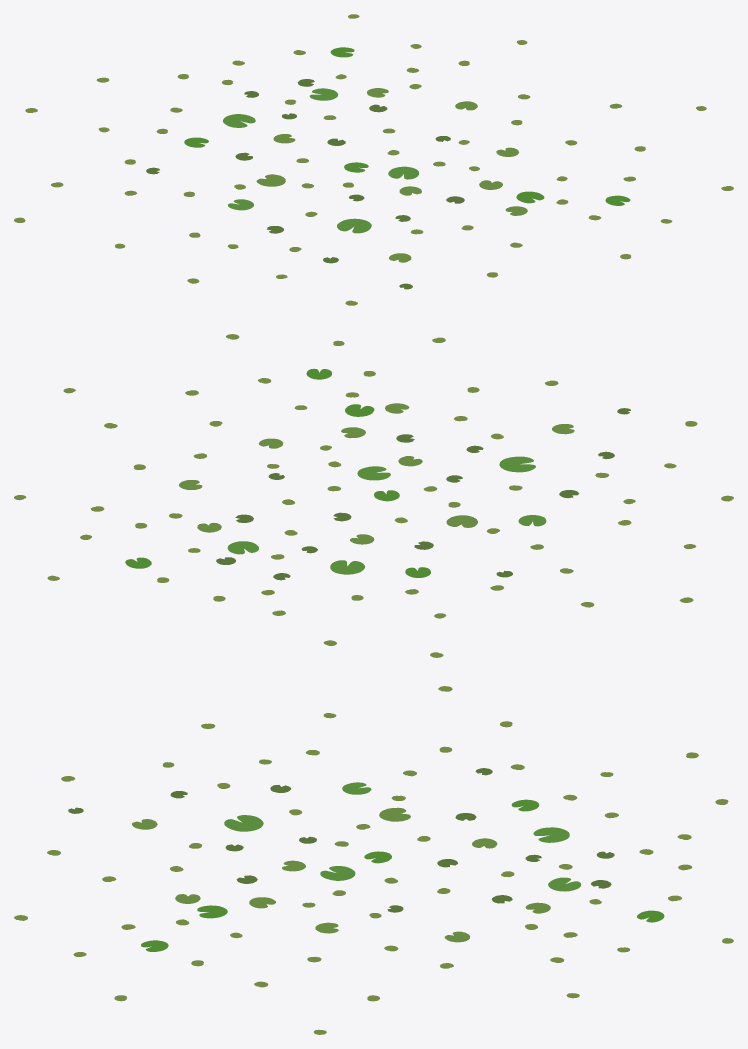
Rendered from plant_nymphaea_set_small_ultra_light.fbx.
3 views of the same model, one above another, from view 1: azimuth 30°, elevation 25°; view 2: azimuth 150°, elevation 25°; view 3: azimuth 270°, elevation 25° (orthographic). The views are drawn at different scales.
Visible parts, largest first — view 1: plant_nymphaea_set_small_ultra_light; view 2: plant_nymphaea_set_small_ultra_light; view 3: plant_nymphaea_set_small_ultra_light.
Part boxes in pixels (box(x1,y1,x2,y2)): plant_nymphaea_set_small_ultra_light: box(14, 14, 733, 305); plant_nymphaea_set_small_ultra_light: box(14, 334, 733, 657); plant_nymphaea_set_small_ultra_light: box(14, 686, 733, 1034).
Size of the model in its own units: 308 by 5.72e-06 by 269.
